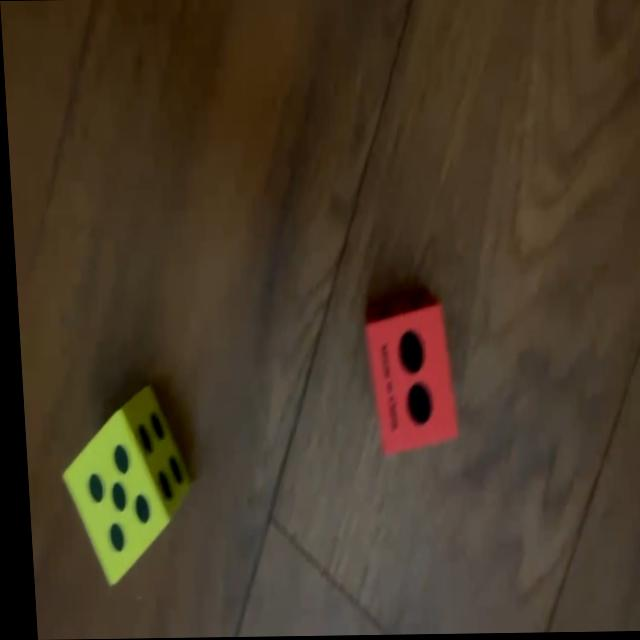cube: (360, 305, 453, 452)
